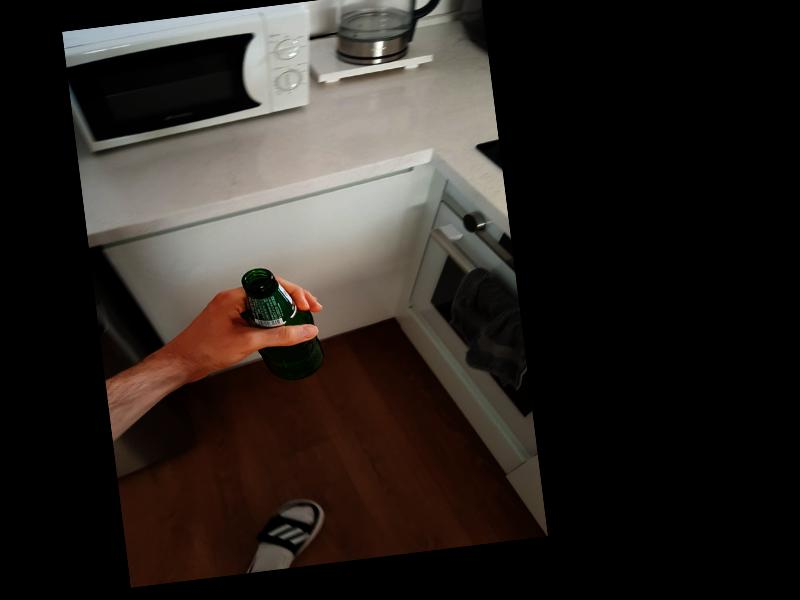Beer: (240, 263, 326, 385)
